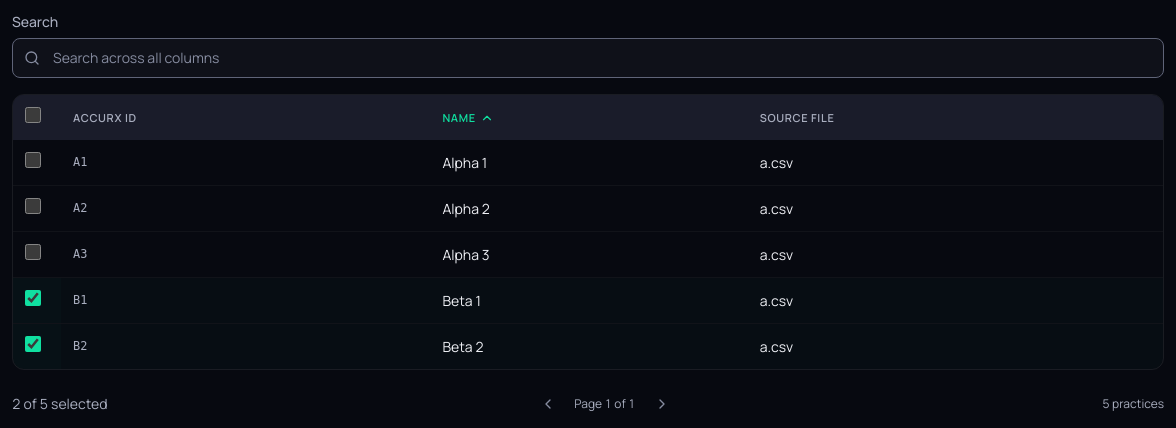
Test: DataTable header checkbox › is checked when every visible row is selected
In the field with placeholder "Search across all columns": (588, 58) [12,38,1164,78], type "Beta"
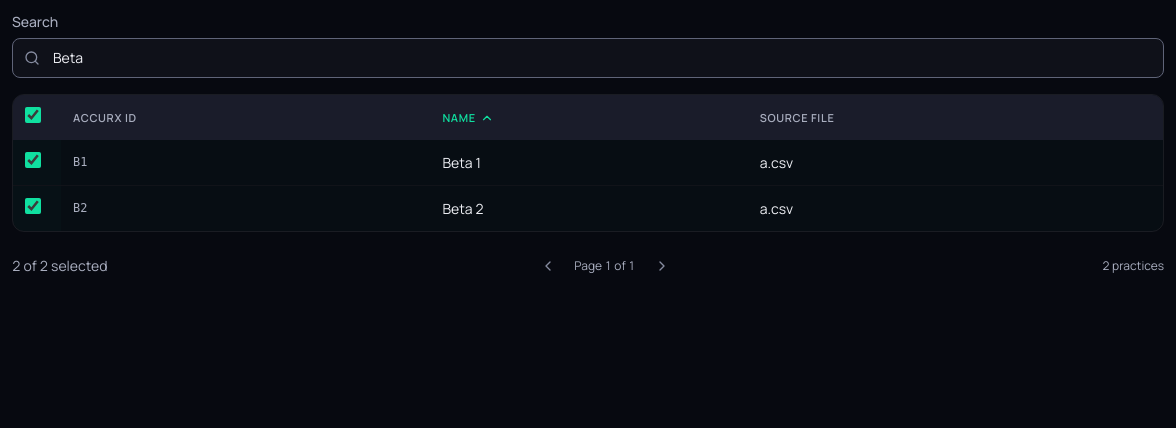
Expected: the checkbox named "Select all visible rows" is checked, [25,107,41,123]
